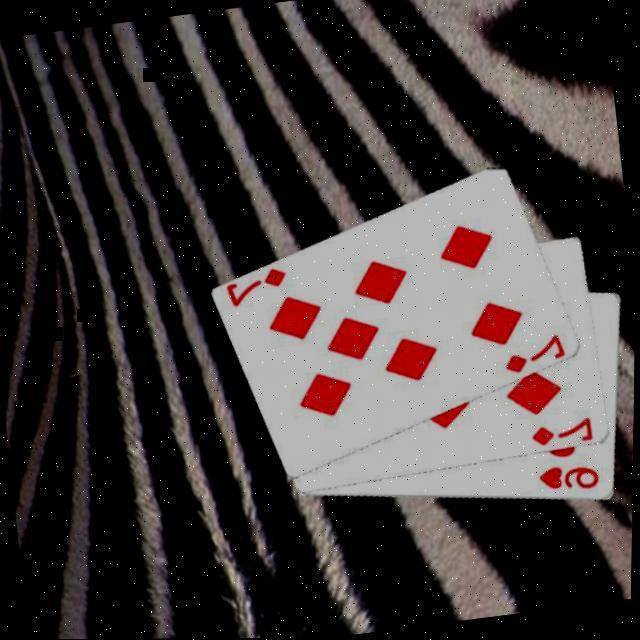7D: (498, 332, 569, 379), (221, 266, 291, 312), (526, 416, 595, 452)
9H: (535, 459, 603, 499)
